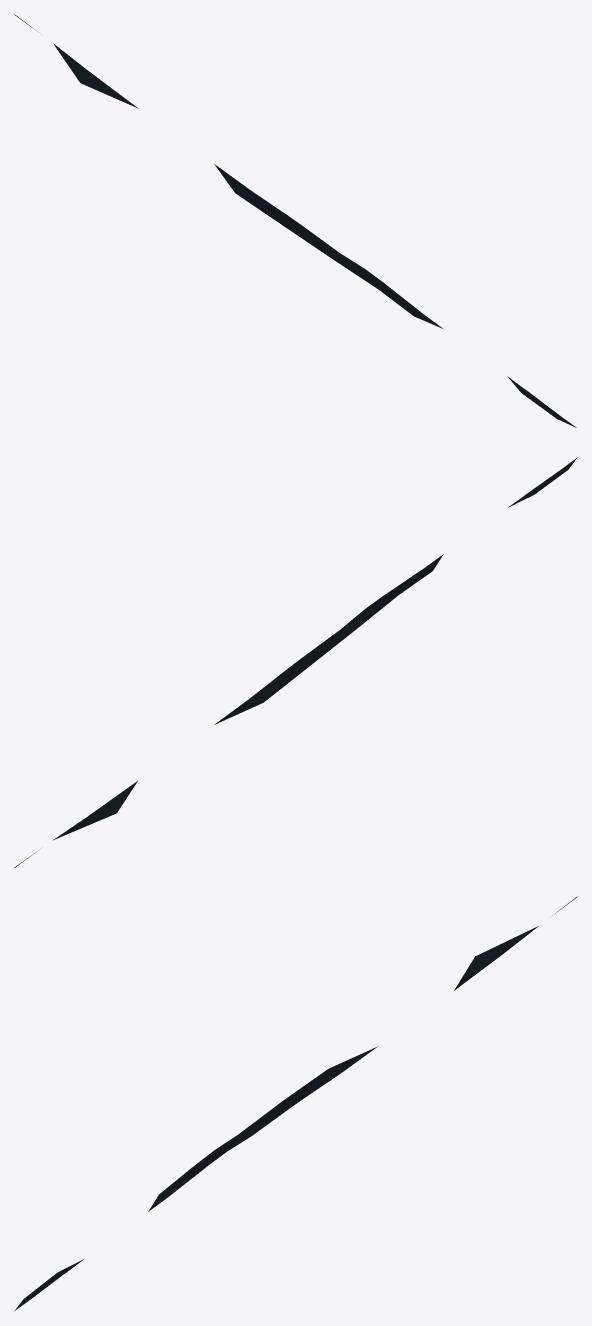
3 views of the same model, one above another, from view 1: azimuth 30°, elevation 25°; view 2: azimuth 150°, elevation 25°; view 3: azimuth 330°, elevation 25° (orthographic).
Bounding box in the file's own units: 0.9265 × 0.2583 × 48.58.
1 material, 1 textured.
